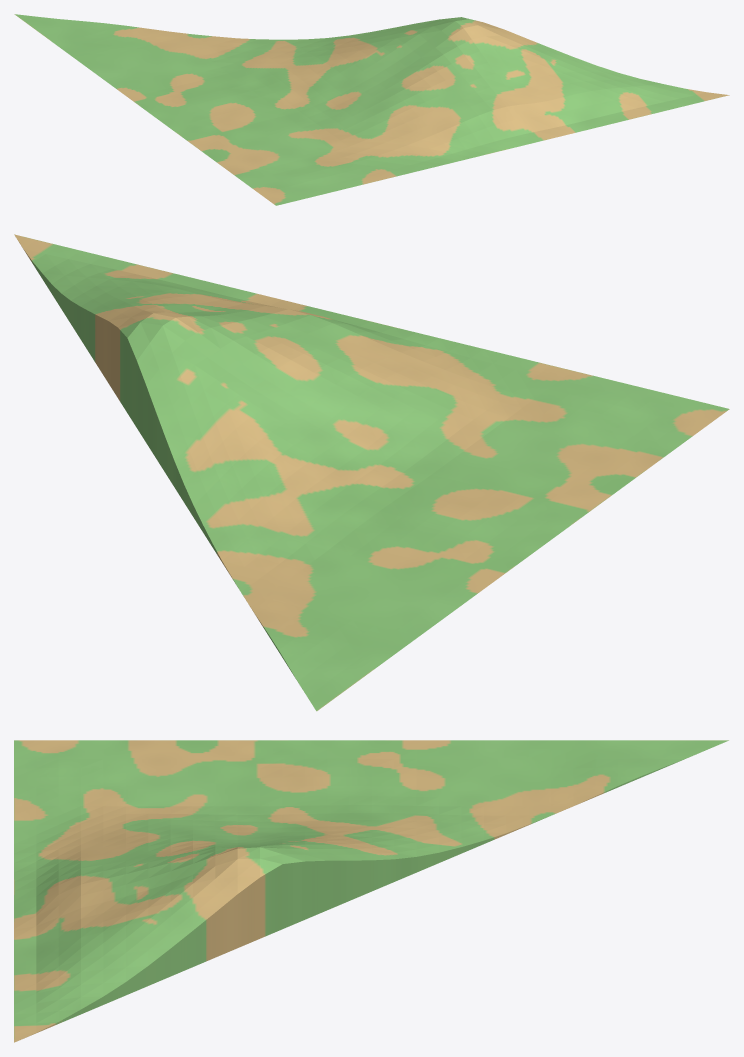
Rendered from Grass_Hills_07_NW.obj.
3 views of the same model, one above another, from view 1: azimuth 30°, elevation 25°; view 2: azimuth 150°, elevation 25°; view 3: azimuth 270°, elevation 25° (orthographic). The views are drawn at different scales.
Size of the model in its own units: 10 by 1.12 by 10.
Materials: 1 (1 with a texture image).
